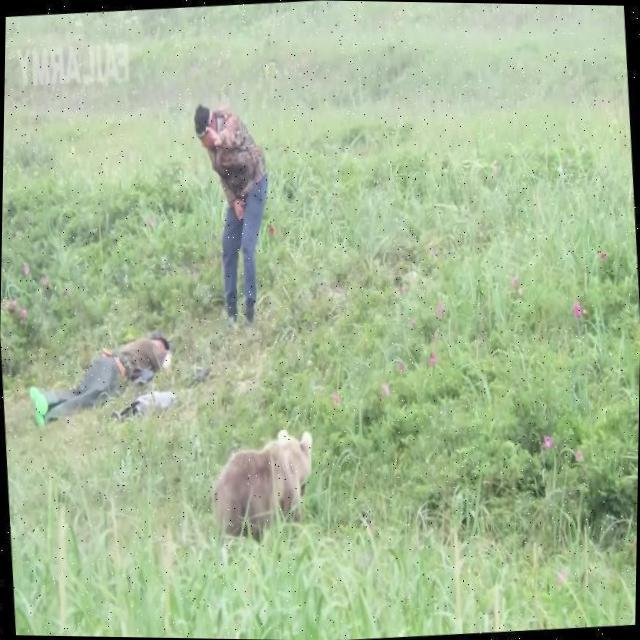person: (193, 99, 282, 324), (26, 330, 177, 432)
